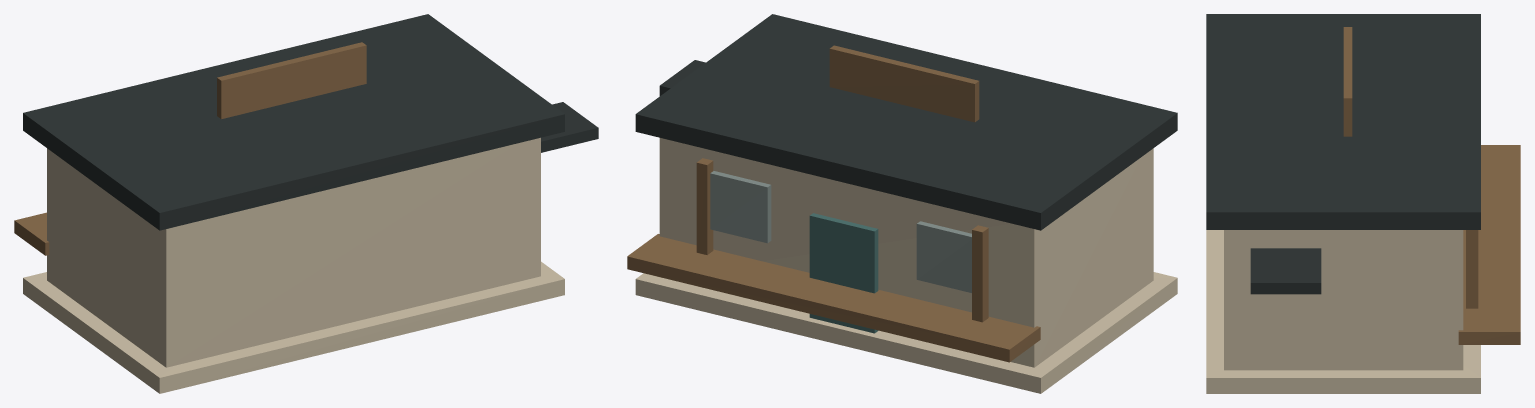
File: Bakery-Shop.glb
3 views of the same model, side by side, from view 1: azimuth 30°, elevation 25°; view 2: azimuth 150°, elevation 25°; view 3: azimuth 270°, elevation 25° (orthographic).
Parts seen in each view (by area): view 1: general-store-static-store-cream, general-store-static-store-iron, general-store-static-store-timber; view 2: general-store-static-store-iron, general-store-static-store-cream, general-store-static-store-timber, general-store-static-store-galv, general-store-static-store-teal; view 3: general-store-static-store-iron, general-store-static-store-cream, general-store-static-store-timber.
Boxes of the visible parts, bbox=[...] form: general-store-static-store-cream: bbox=[23, 137, 564, 393]; general-store-static-store-iron: bbox=[23, 14, 598, 230]; general-store-static-store-timber: bbox=[14, 42, 366, 255]; general-store-static-store-iron: bbox=[635, 14, 1177, 230]; general-store-static-store-cream: bbox=[635, 138, 1177, 393]; general-store-static-store-timber: bbox=[627, 45, 1040, 362]; general-store-static-store-galv: bbox=[710, 171, 971, 292]; general-store-static-store-teal: bbox=[809, 213, 878, 333]; general-store-static-store-iron: bbox=[1206, 14, 1480, 294]; general-store-static-store-cream: bbox=[1206, 230, 1480, 393]; general-store-static-store-timber: bbox=[1343, 27, 1520, 344].
Bounding box in the file's own units: 6.03 × 2.89 × 3.55.
